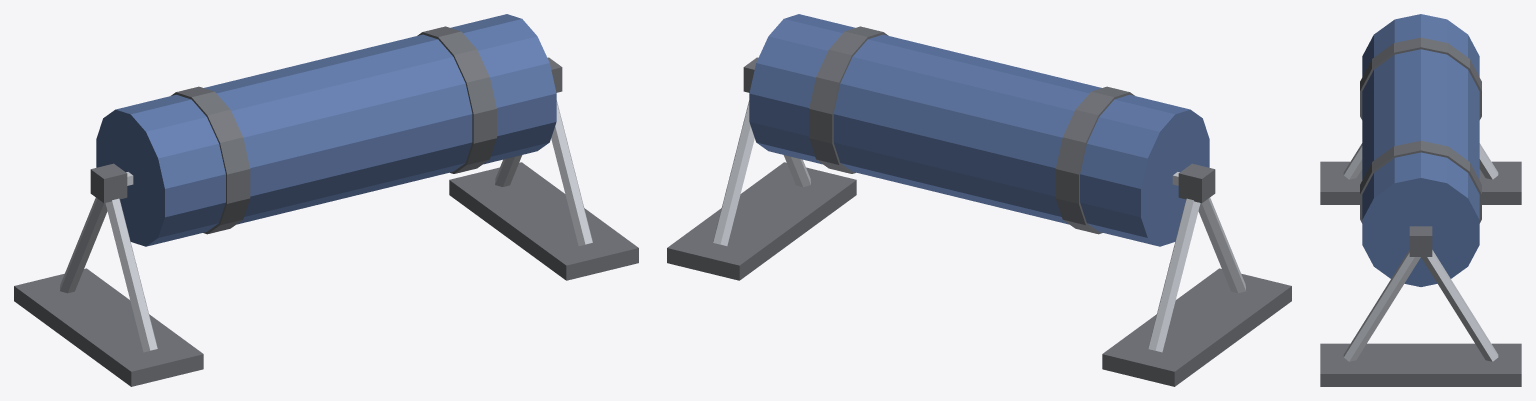
Rendered from baseball-park-and-batting-cages-tarp-roll-fc834cc5__33781.glb.
The picture shows the model from 3 angles, left to right: view 1: azimuth 30°, elevation 25°; view 2: azimuth 150°, elevation 25°; view 3: azimuth 270°, elevation 25°; orthographic projection. The views are drawn at different scales.
Visible parts, largest first — view 1: roll, tarp-roll; view 2: roll, tarp-roll; view 3: roll, tarp-roll.
Boxes of the visible parts, x1=… form: roll: x1=96, y1=14, x2=556, y2=246; tarp-roll: x1=14, y1=26, x2=638, y2=386; roll: x1=749, y1=14, x2=1209, y2=246; tarp-roll: x1=667, y1=26, x2=1291, y2=386; roll: x1=1362, y1=14, x2=1479, y2=286; tarp-roll: x1=1320, y1=37, x2=1521, y2=386.
Bounding box in the file's own units: 3.5 × 1.43 × 1.4.
